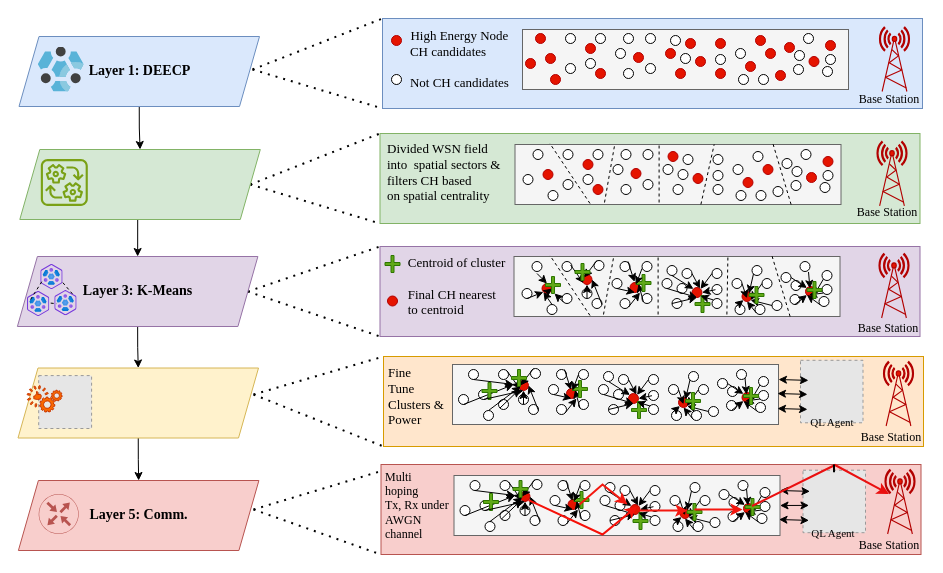
This 943x573 diagram has some shape labels left out. Grey dashed boxes stand in for pictures. The shapes that lost their labels are listed below. From the top down, each one's box as (x1, y1, x2, y2) in pixels, then its label:
(19, 148, 260, 220): Layer 2: EEKA
(17, 367, 258, 438): Layer 4: RL
